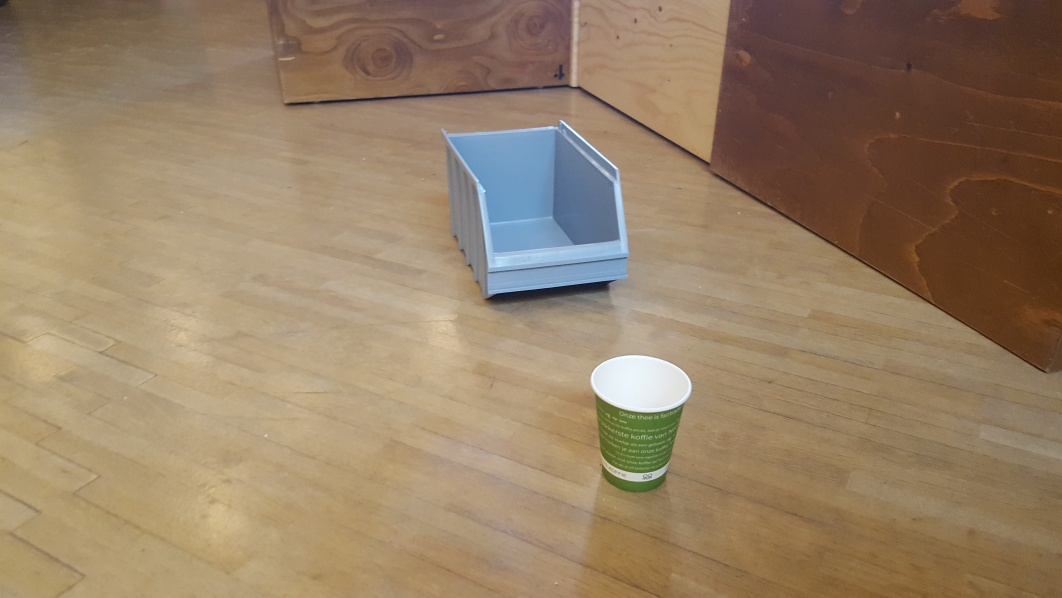cup: (588, 353, 693, 498)
tray: (438, 121, 632, 303)
